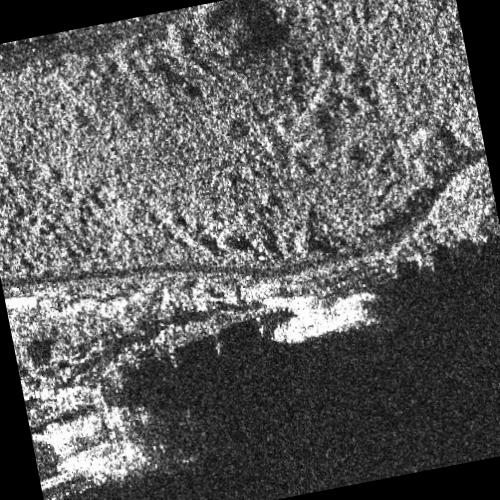ship: (272, 290, 380, 346)
